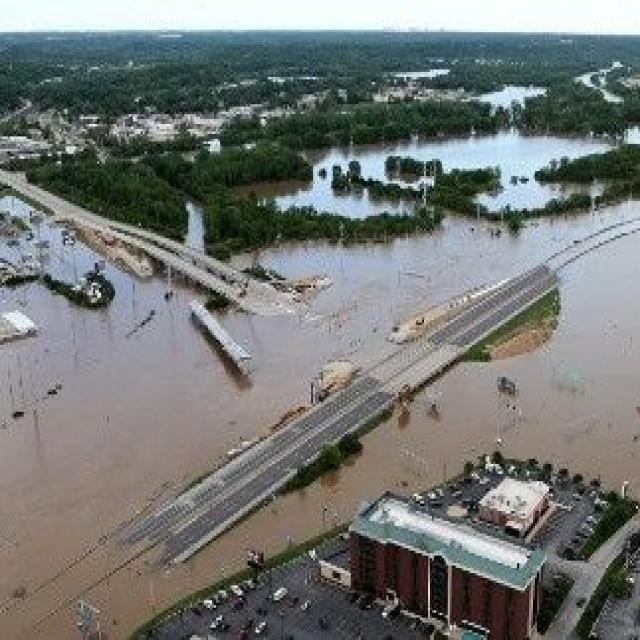flooded_areas: (0, 132, 620, 606)
